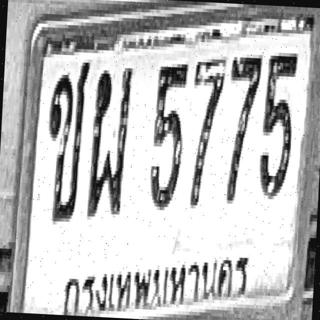A10: (43, 56, 90, 224)
A28: (86, 63, 134, 218)
N05: (257, 49, 298, 200), (148, 60, 189, 211)
N07: (224, 54, 262, 205), (188, 57, 225, 208)
P04: (56, 238, 258, 320)
